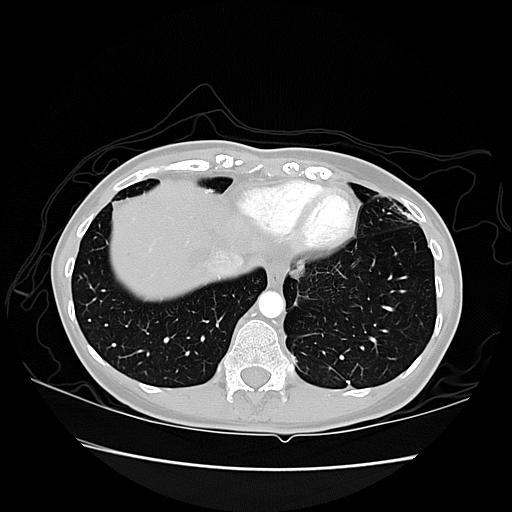nodule: (289, 260, 306, 277)
